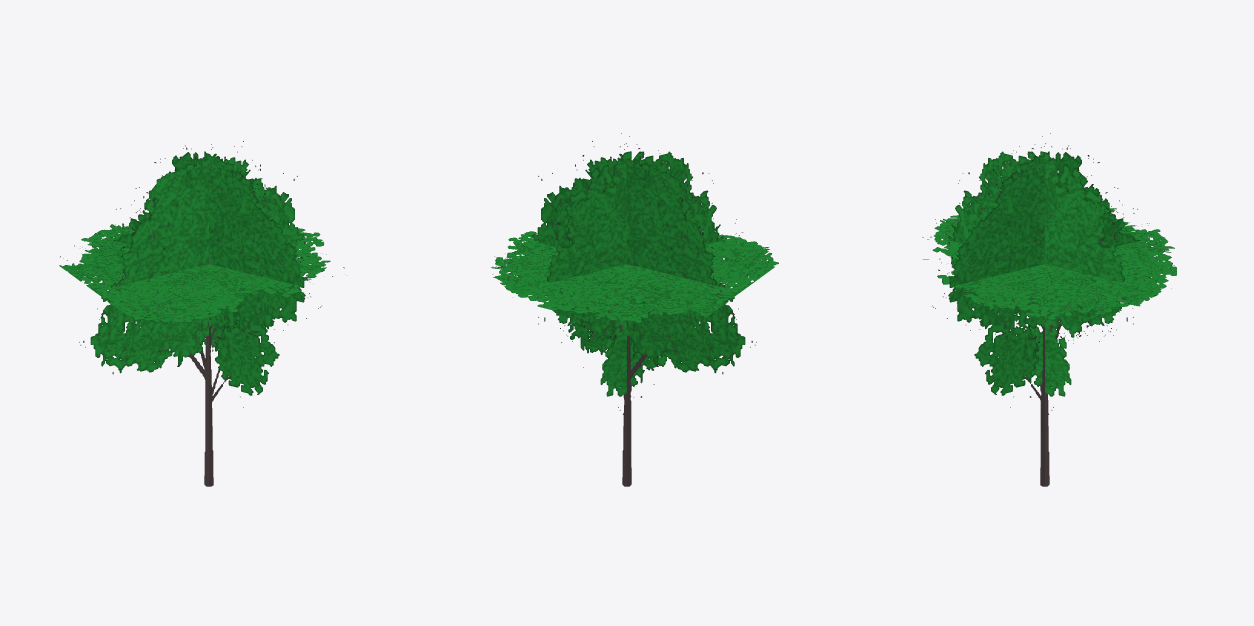
File: tree_deciduous_03_far.glb
3 views of the same model, side by side, from view 1: azimuth 30°, elevation 25°; view 2: azimuth 150°, elevation 25°; view 3: azimuth 270°, elevation 25° (orthographic).
Parts seen in each view (by area): view 1: env; view 2: env; view 3: env.
Boxes of the visible parts, x1,y1,x2,y2 form: env: (59,141,344,486); env: (491,133,778,486); env: (922,133,1176,486).
Bounding box in the file's own units: 5.46 × 5.46 × 4.73.
1 material, 1 textured.
